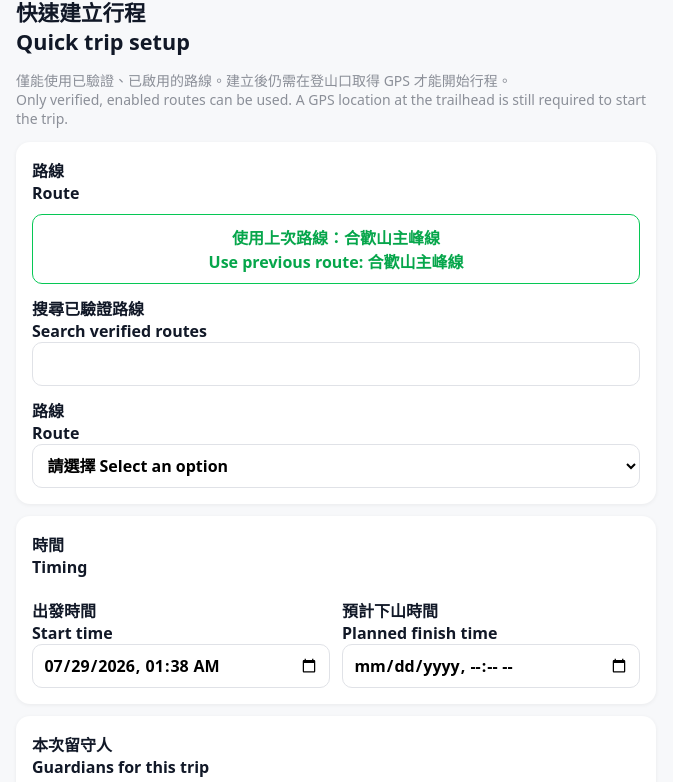
Test case: TripForm quick creation › uses the existing create endpoint and refreshes stale server-validated choices
Click the button "使用上次路線：合歡山主峰線 Use previous route: 合歡山主峰線" at (336, 249), box top-left (32, 214), bottom-right (640, 284)
(page scrolled)
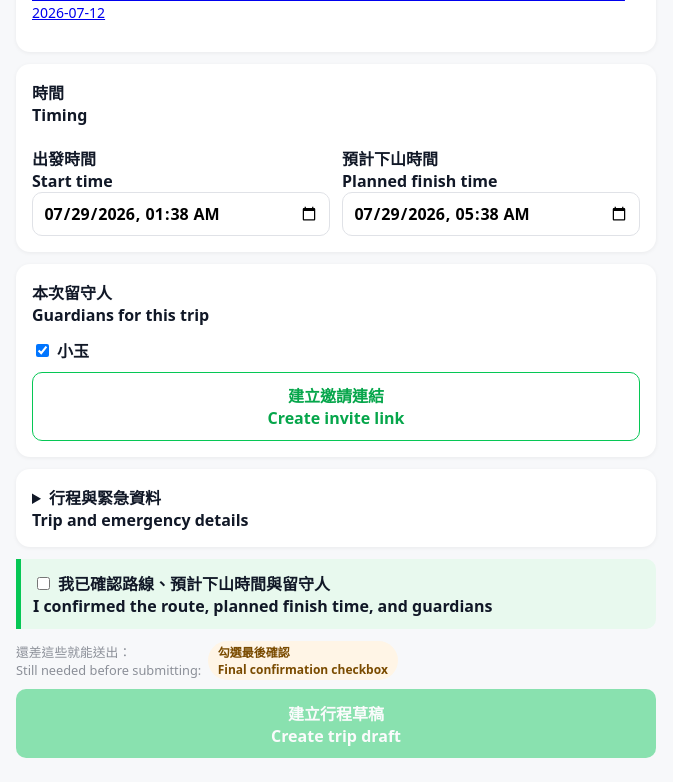
Click the 2nd checkbox at (44, 583), box top-left (37, 577), bottom-right (50, 590)
(page scrolled)
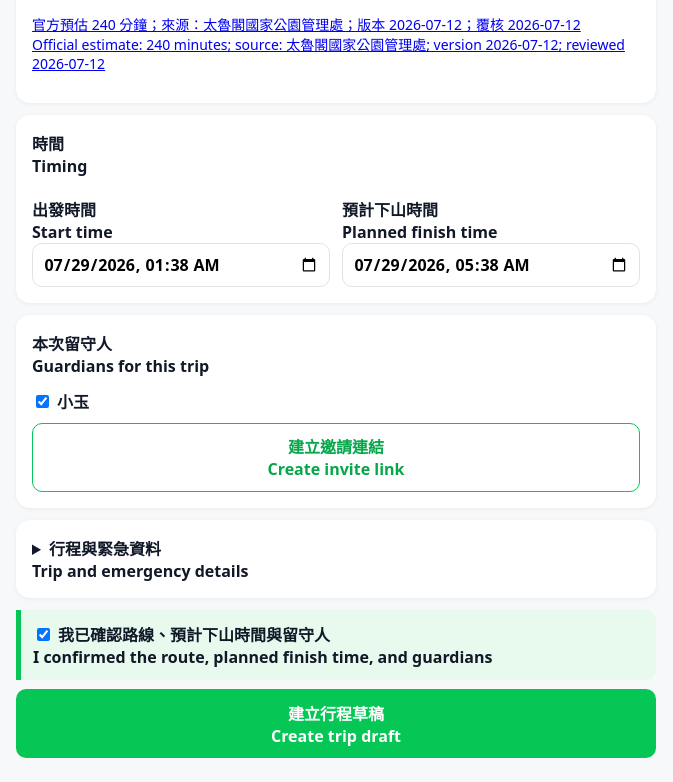
Click the button "建立行程草稿 Create trip draft" at (336, 724), box top-left (16, 689), bottom-right (656, 758)
(page scrolled)
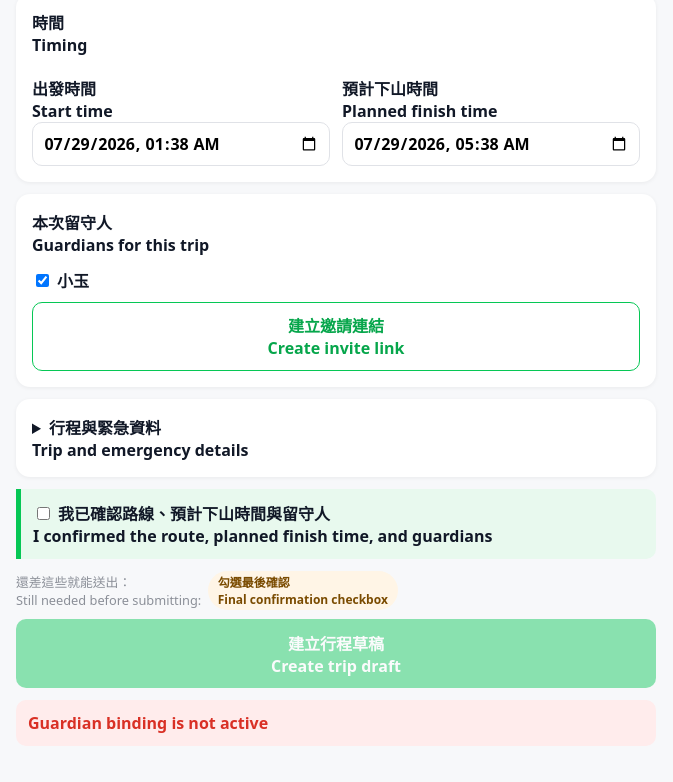
Now the message "Guardian binding is not active" is shown, box top-left (16, 700), bottom-right (656, 746)
